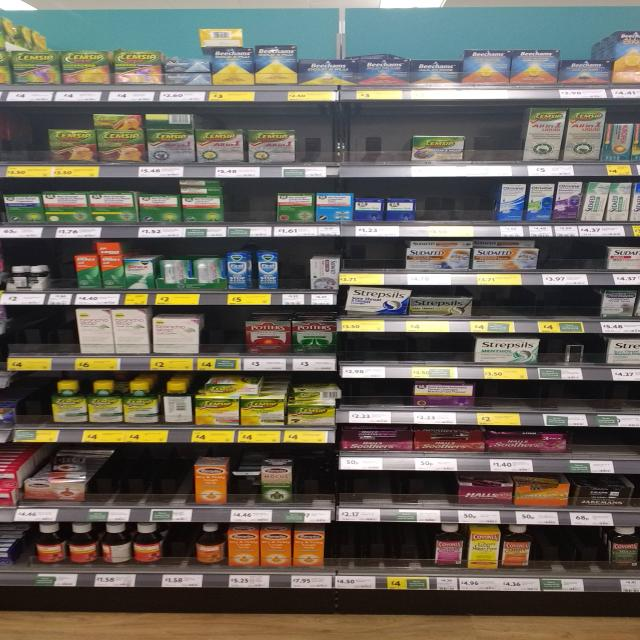empty: (470, 376, 640, 422), (294, 111, 410, 171), (90, 444, 193, 505), (327, 519, 432, 572), (292, 472, 453, 506), (340, 332, 476, 364), (532, 522, 607, 577), (1, 300, 70, 358), (466, 111, 531, 171), (416, 177, 499, 219), (1, 103, 45, 176), (329, 382, 418, 417), (573, 423, 640, 464), (197, 306, 247, 358), (536, 238, 605, 271), (347, 242, 412, 277), (541, 286, 601, 323), (225, 187, 281, 226), (477, 280, 527, 322), (18, 377, 55, 432), (281, 241, 314, 294)
